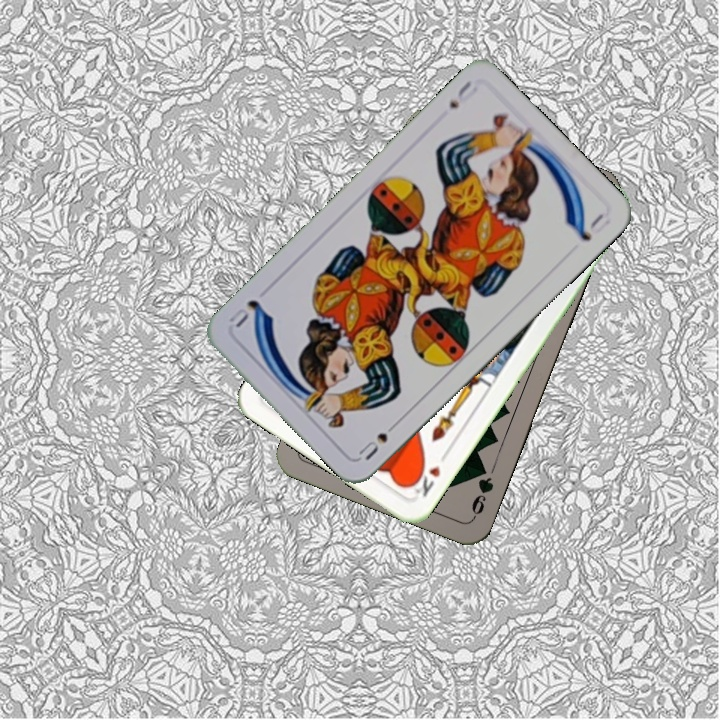G9: (467, 460, 496, 521)
HK: (406, 460, 443, 500)
SU: (354, 416, 403, 463), (444, 76, 481, 112)
